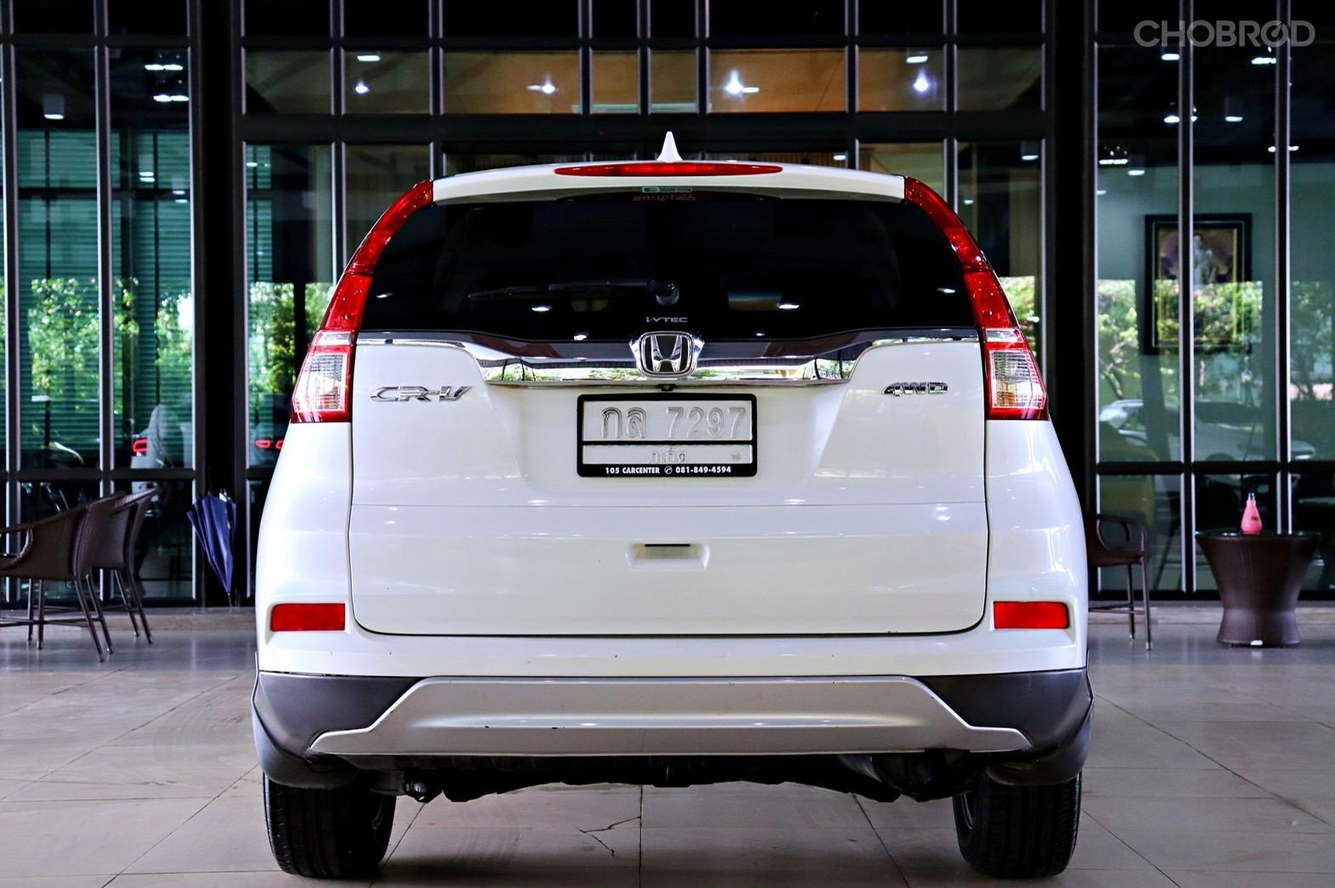license-plate: (577, 388, 760, 481)
